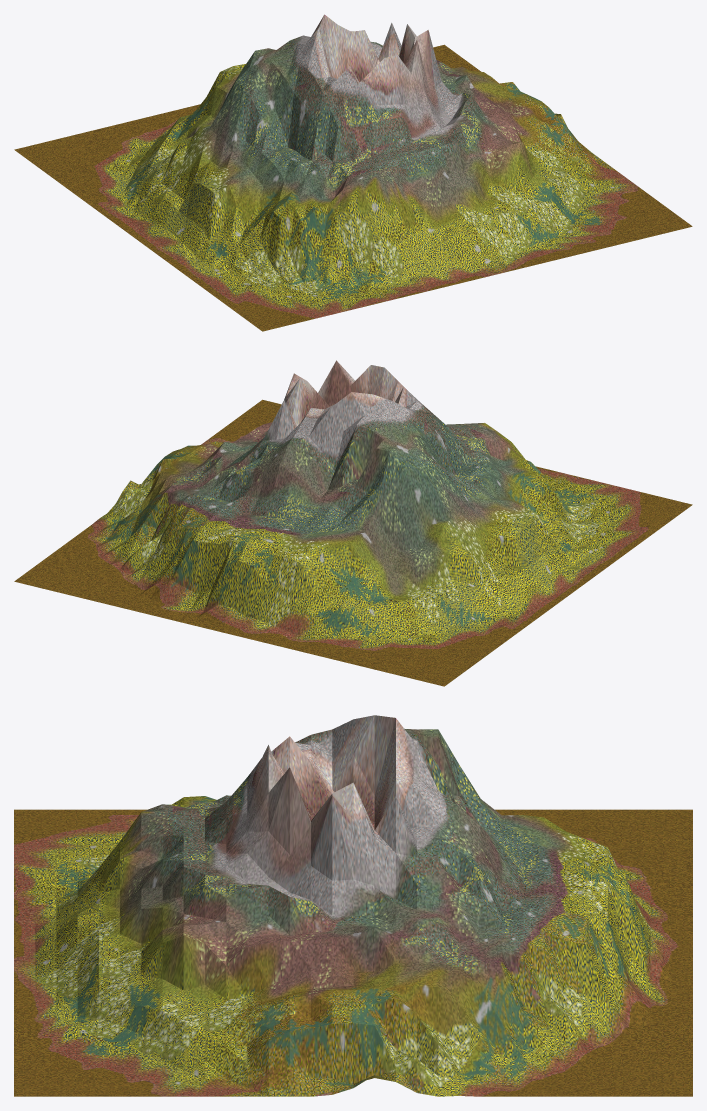
Rendered from Mount.glb.
The picture shows the model from 3 angles, top to bottom: view 1: azimuth 30°, elevation 25°; view 2: azimuth 150°, elevation 25°; view 3: azimuth 270°, elevation 25°; orthographic projection. The views are drawn at different scales.
Visible parts, largest first — view 1: Mount; view 2: Mount; view 3: Mount.
Boxes of the visible parts, box(x1,y1,x2,y2) form: Mount: box(14, 14, 692, 331); Mount: box(14, 360, 692, 686); Mount: box(14, 715, 692, 1096).
Size of the model in its own units: 581 by 214 by 581.
Materials: 1 (1 with a texture image).
